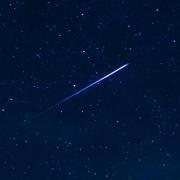meteorite: (50, 57, 125, 110)
